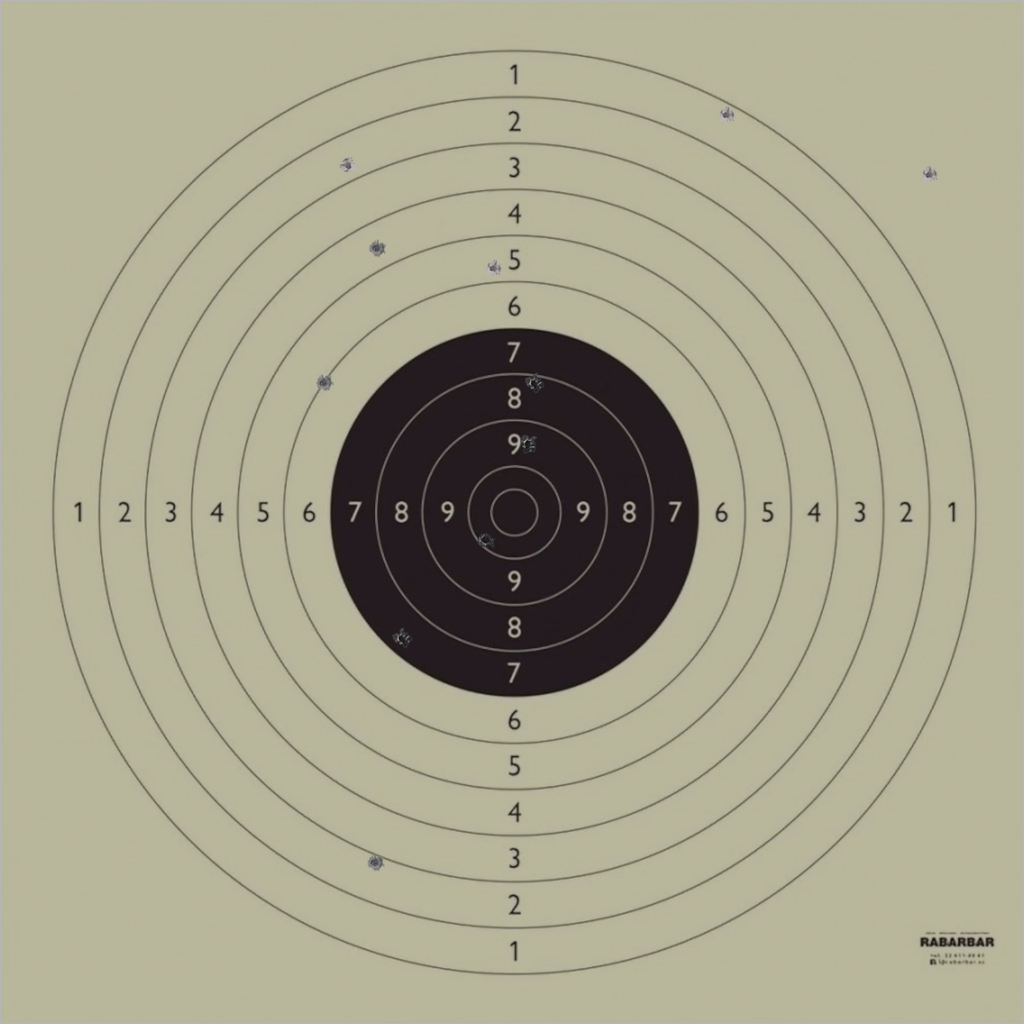0 punktow: (920, 165, 938, 184)
1 punkt: (717, 106, 736, 124)
10 punktow: (477, 531, 495, 549)
2 punkty: (339, 156, 357, 175)
3 punkty: (366, 853, 384, 872)
4 punkty: (368, 239, 386, 258)
5 punktow: (484, 259, 503, 278)
6 punktow: (315, 374, 333, 392)
7 punktow: (393, 630, 412, 648)
8 punktow: (525, 375, 544, 393)
9 punktow: (519, 435, 537, 454)
